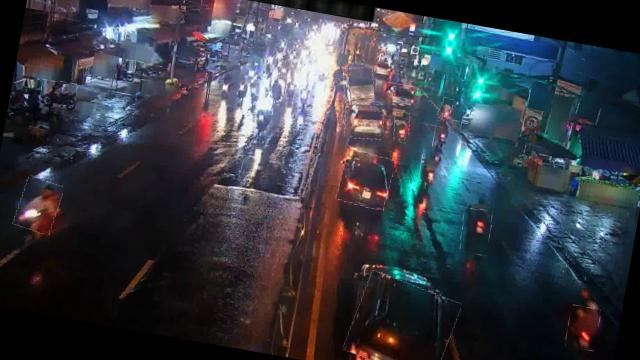Bike: (14, 176, 64, 235), (564, 304, 602, 352), (458, 208, 493, 256), (39, 78, 78, 106), (418, 150, 442, 190), (134, 62, 170, 84), (391, 111, 412, 144), (291, 87, 314, 113), (432, 120, 452, 149), (218, 72, 236, 101), (235, 71, 251, 101), (253, 105, 270, 133), (268, 76, 286, 102), (247, 78, 264, 102), (438, 97, 455, 121)
Car: (343, 272, 460, 360), (336, 149, 395, 211), (342, 100, 388, 142), (382, 81, 414, 114)
Truck: (339, 64, 378, 107)
